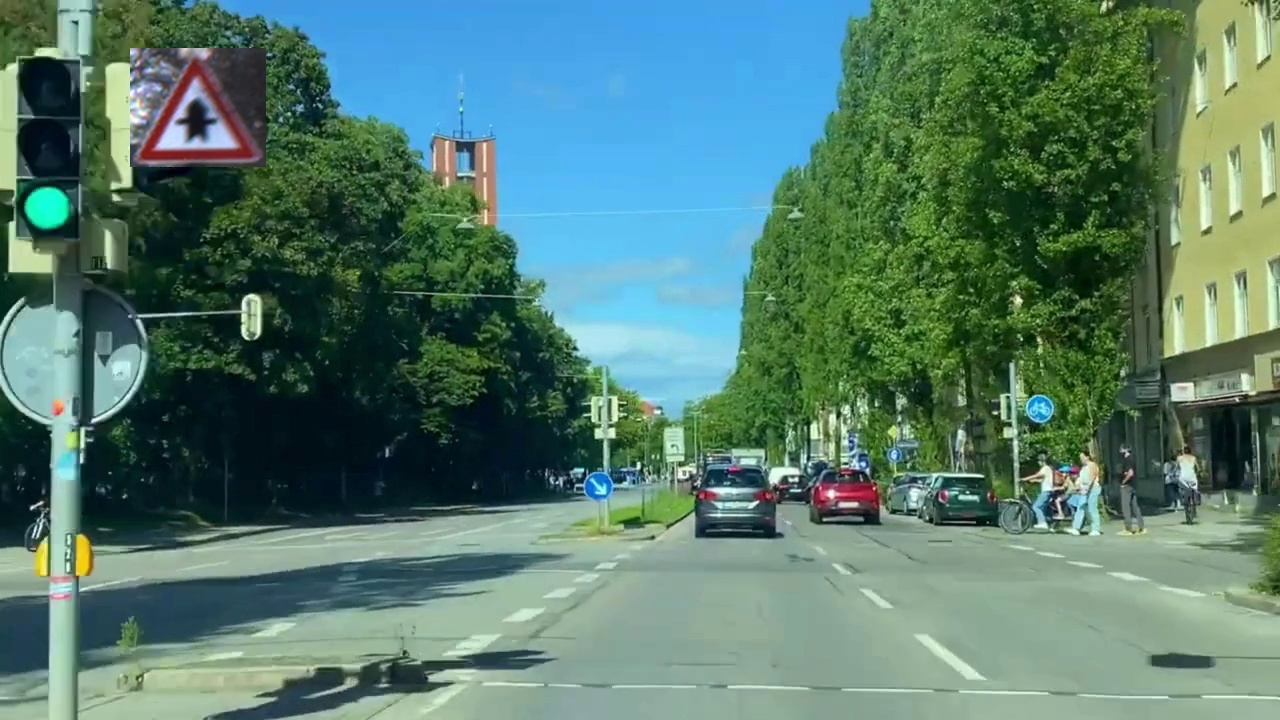Right-of-way: (130, 48, 266, 167)
